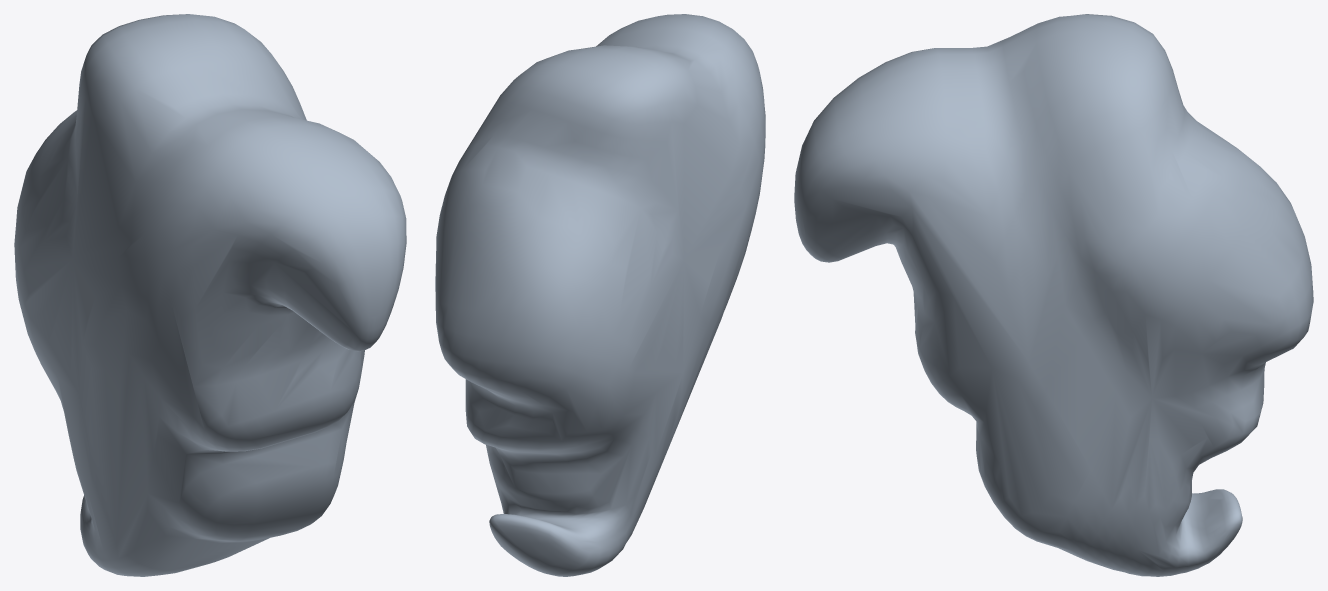
File: Tail_05.fbx
The picture shows the model from 3 angles, left to right: view 1: azimuth 30°, elevation 25°; view 2: azimuth 150°, elevation 25°; view 3: azimuth 270°, elevation 25°; orthographic projection. The views are drawn at different scales.
Visible parts, largest first — view 1: Tail_05; view 2: Tail_05; view 3: Tail_05.
Boxes of the visible parts, x1=… form: Tail_05: x1=14, y1=14, x2=406, y2=576; Tail_05: x1=435, y1=14, x2=765, y2=576; Tail_05: x1=794, y1=14, x2=1313, y2=576.
Size of the model in its own units: 88.25 by 183 by 163.
